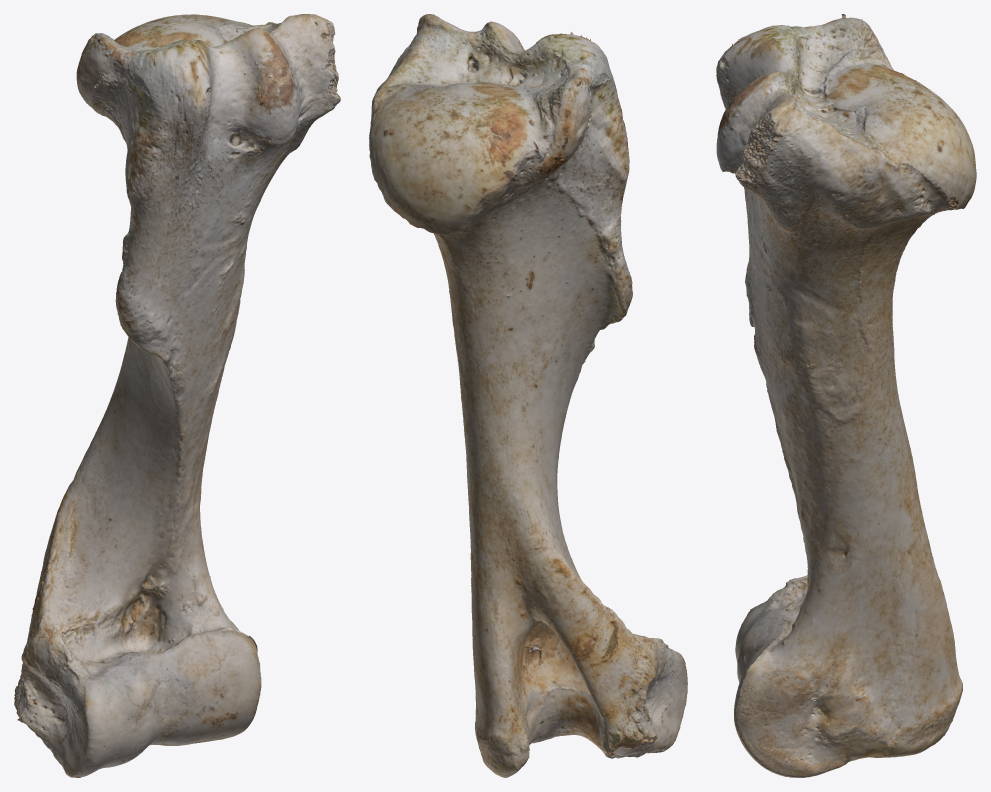
File: cow_bone.glb
The picture shows the model from 3 angles, left to right: view 1: azimuth 30°, elevation 25°; view 2: azimuth 150°, elevation 25°; view 3: azimuth 270°, elevation 25°; orthographic projection. The views are drawn at different scales.
Visible parts, largest first — view 1: Object_3, Object_2, Object_5, Object_4, Object_6; view 2: Object_2, Object_5, Object_4, Object_3, Object_6; view 3: Object_2, Object_4, Object_5, Object_3, Object_6.
Boxes of the visible parts, box(x1,y1,x2,y2) form: Object_3: box(14, 386, 261, 777); Object_2: box(14, 18, 338, 772); Object_5: box(76, 14, 340, 404); Object_4: box(36, 14, 335, 611); Object_6: box(80, 14, 323, 480); Object_2: box(372, 26, 675, 762); Object_5: box(370, 14, 632, 423); Object_4: box(369, 86, 632, 646); Object_3: box(470, 434, 687, 777); Object_6: box(406, 14, 610, 532); Object_2: box(722, 25, 961, 757); Object_4: box(716, 72, 976, 624); Object_5: box(716, 14, 968, 423); Object_3: box(734, 490, 962, 777); Object_6: box(718, 17, 914, 470).
Bounding box in the file's own units: 3.67 × 8.74 × 2.85.
Materials: 1 (1 with a texture image).
